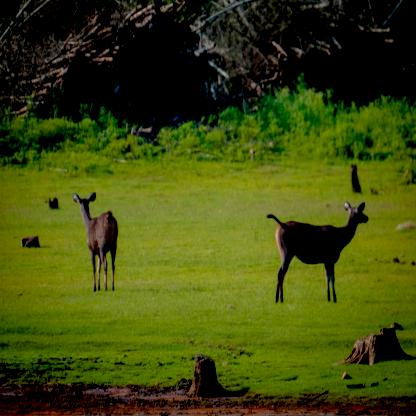Deer: (265, 201, 368, 308), (72, 193, 121, 294)
